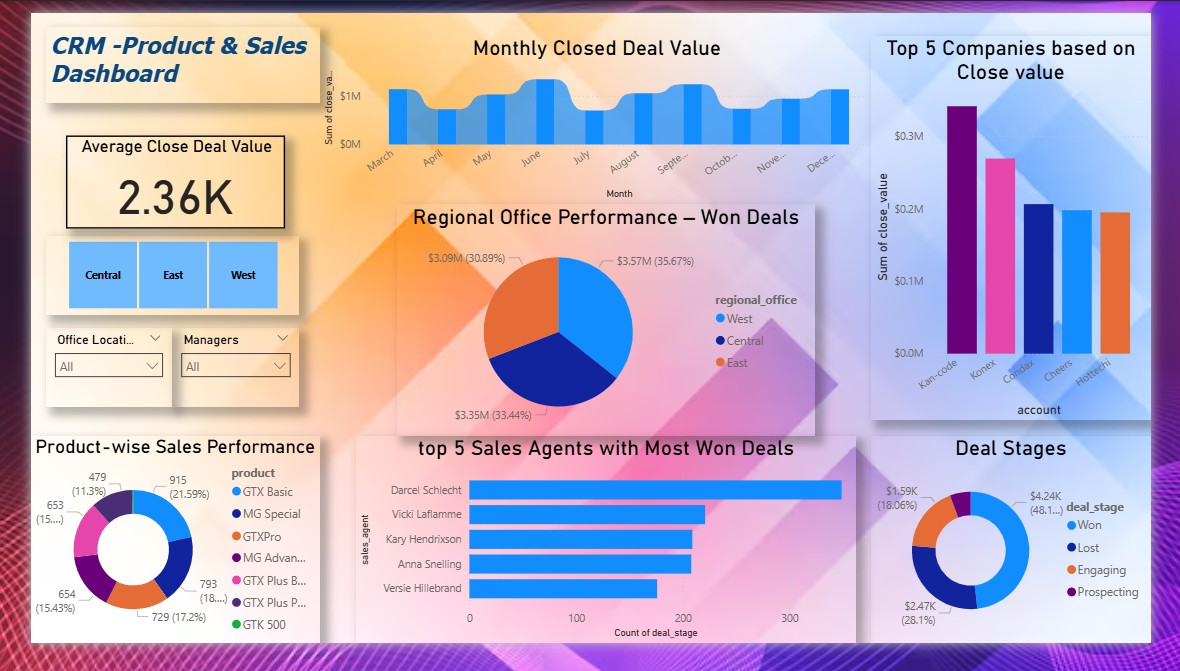

Layout of this report page (visuals, bound fields, positions):
{"tool":"powerbi","page":{"name":"Product & Sales Dashboard","canvas":[1280,720],"ordinal":0},"visuals":[{"type":"barChart","title":"top 5 Sales Agents with Most Won Deals","fields":{"Category":["sales_pipeline.sales_agent"],"Y":["sales_pipeline.deal_stage"]},"box":[371.4,482.9,571.4,237.1],"z":0},{"type":"pieChart","title":"Regional Office Performance – Won Deals","fields":{"Category":["sales_teams.regional_office"],"Y":["sales_pipeline.close_value"]},"box":[418.8,218.8,477.5,265],"z":1000},{"type":"ribbonChart","title":"Monthly Closed Deal Value","fields":{"Category":["sales_pipeline.close_date.Variation.Date Hierarchy.Month"],"Y":["sales_pipeline.close_value"]},"box":[330,26.2,633.8,192.5],"z":2000},{"type":"donutChart","title":"Product-wise Sales Performance","fields":{"Category":["sales_pipeline.product"],"Y":["sales_pipeline.deal_stage"]},"box":[0,482.9,330,237.1],"z":3000},{"type":"columnChart","title":"Top 5 Companies based on Close value","fields":{"Category":["accounts.account"],"Y":["sales_pipeline.close_value"],"Series":["sales_pipeline.account"]},"box":[960,26.2,320,440],"z":4000},{"type":"donutChart","title":"Deal Stages","fields":{"Category":["sales_pipeline.deal_stage"],"Y":["sales_pipeline.deal_stage"]},"box":[960,482.9,320,237.1],"z":5000},{"type":"slicer","fields":{"Values":["sales_teams.manager"]},"box":[161.2,360,145,90],"z":6000},{"type":"slicer","title":"Office Locations","fields":{"Values":["accounts.office_location"]},"box":[17.5,360,143.8,90],"z":7000},{"type":"slicer","fields":{"Values":["sales_teams.regional_office"]},"box":[17.1,254.3,288.6,90],"z":8000},{"type":"card","title":"Average Close Deal Value","fields":{"Values":["sales_pipeline.close_value"]},"box":[40,140,250,106.2],"z":9000},{"type":"textbox","box":[17.5,15,312.5,87.5],"z":10000}]}

Visuals, with their boxes in screenshot pixels (x1, y1, x2, y2), scaled from the page's 1280x720 canvas onto the 1180x671 screenshot:
"top 5 Sales Agents with Most Won Deals" barChart: <box>342,450,869,670</box>
"Regional Office Performance – Won Deals" pieChart: <box>386,204,826,451</box>
"Monthly Closed Deal Value" ribbonChart: <box>304,24,889,204</box>
"Product-wise Sales Performance" donutChart: <box>0,450,304,670</box>
"Top 5 Companies based on Close value" columnChart: <box>885,24,1179,434</box>
"Deal Stages" donutChart: <box>885,450,1179,670</box>
slicer - sales_teams.manager: <box>149,336,282,419</box>
"Office Locations" slicer: <box>16,336,149,419</box>
slicer - sales_teams.regional_office: <box>16,237,282,321</box>
"Average Close Deal Value" card: <box>37,130,267,229</box>
textbox: <box>16,14,304,96</box>
